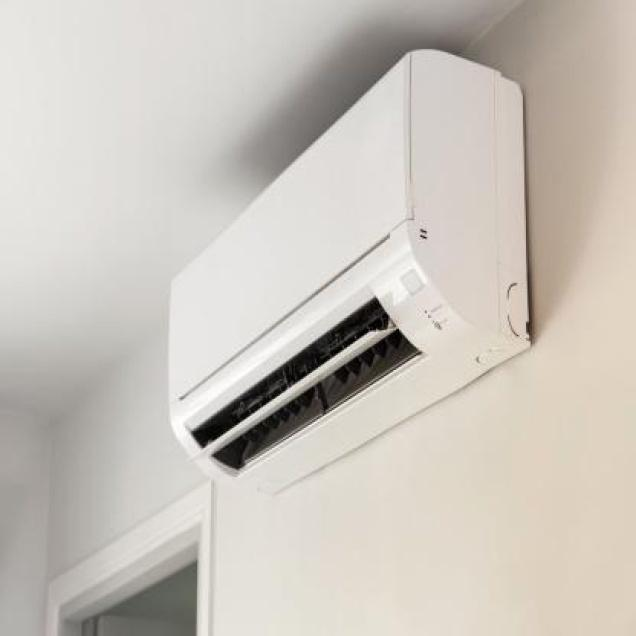AC: (163, 44, 528, 497)
